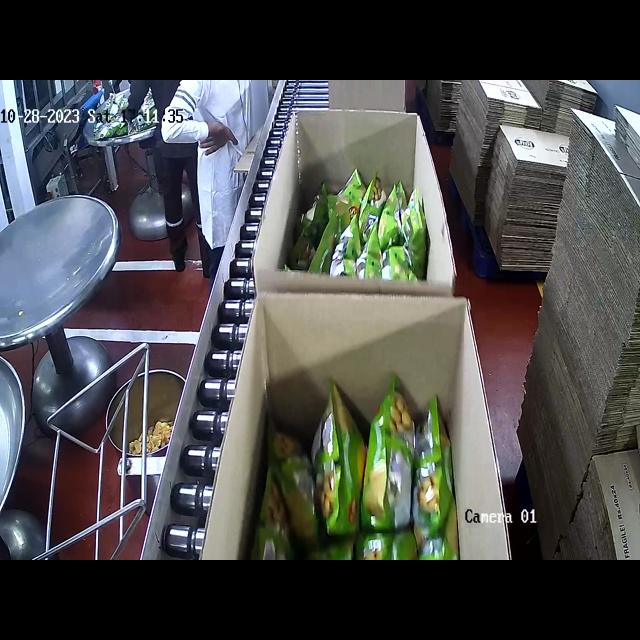yogurt: (257, 373, 459, 558), (285, 167, 428, 281)
